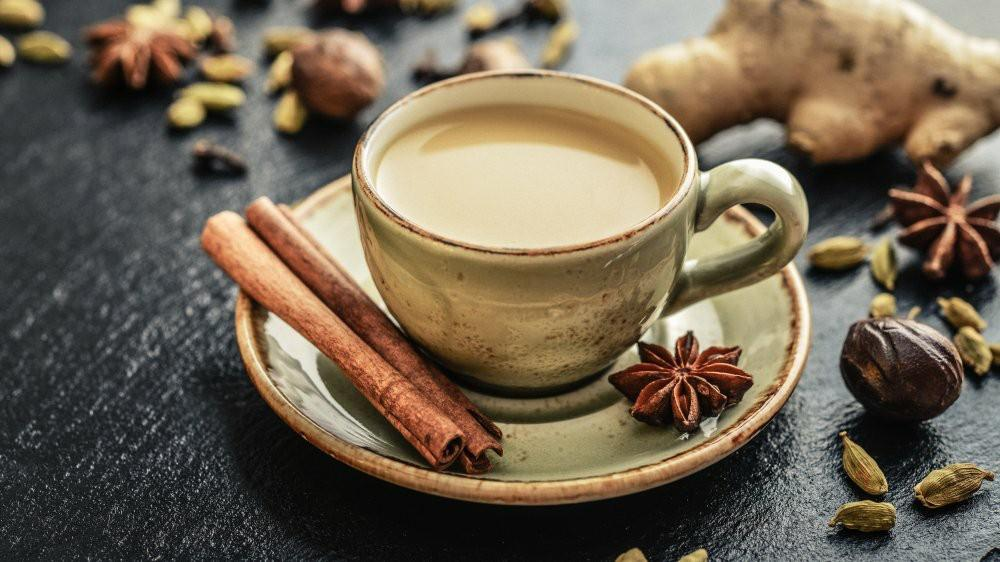Chai: (371, 106, 683, 251)
